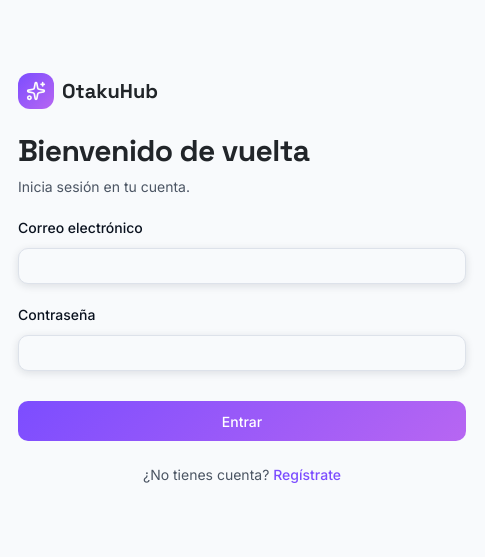
Scenario: Login Form › should show error with wrong credentials
The image size is (485, 557).
Type "wrong@email.com" into the field labelled "Correo electrónico" at (242, 266), box left=18, top=248, right=466, bottom=284
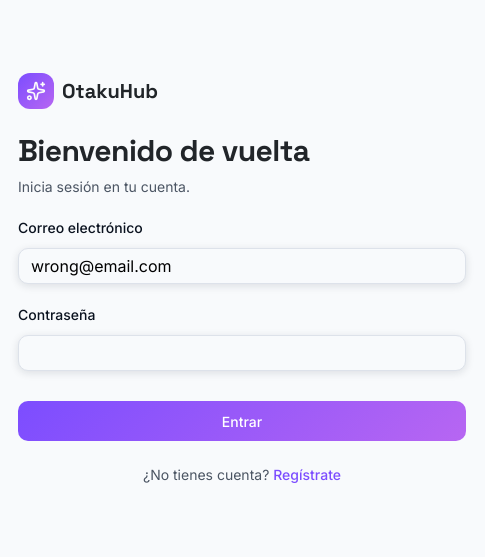
Type "wrongpass" into the password field labelled "Contraseña" at (242, 353), box left=18, top=335, right=466, bottom=371
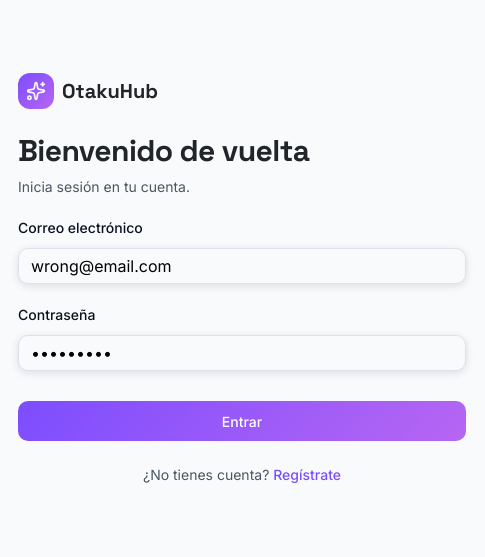
Submit the form
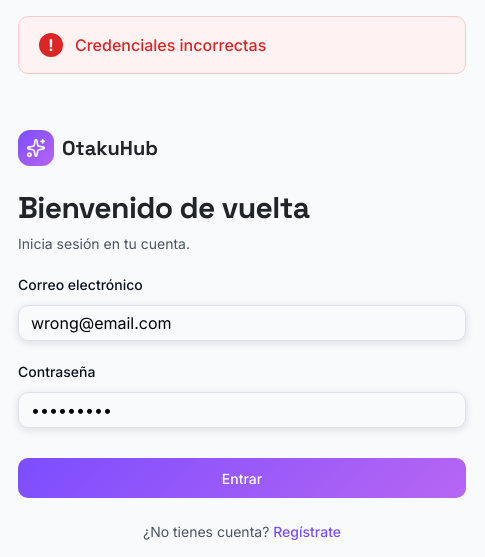
expect the text "Credenciales incorrectas" is shown: met, box left=75, top=35, right=266, bottom=55
